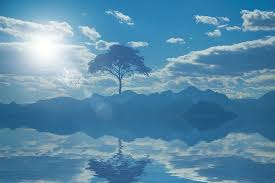lake: (2, 104, 275, 182)
sky: (1, 2, 273, 92)
tree: (92, 43, 146, 93)
